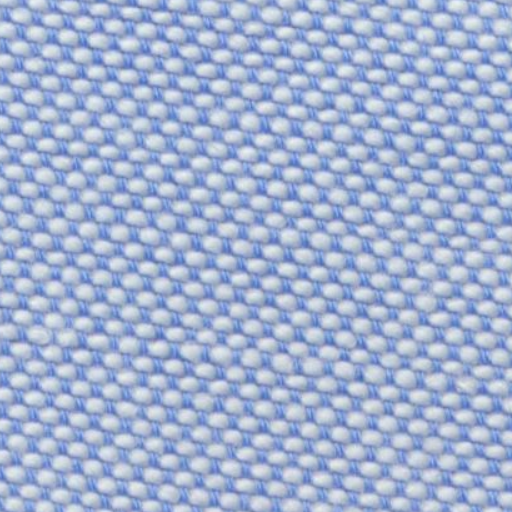TuoSha: (18, 299, 496, 414), (12, 63, 497, 170)
